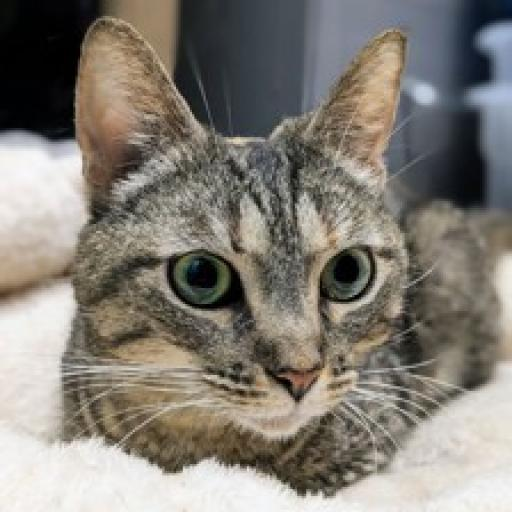cat: (38, 8, 512, 495)
